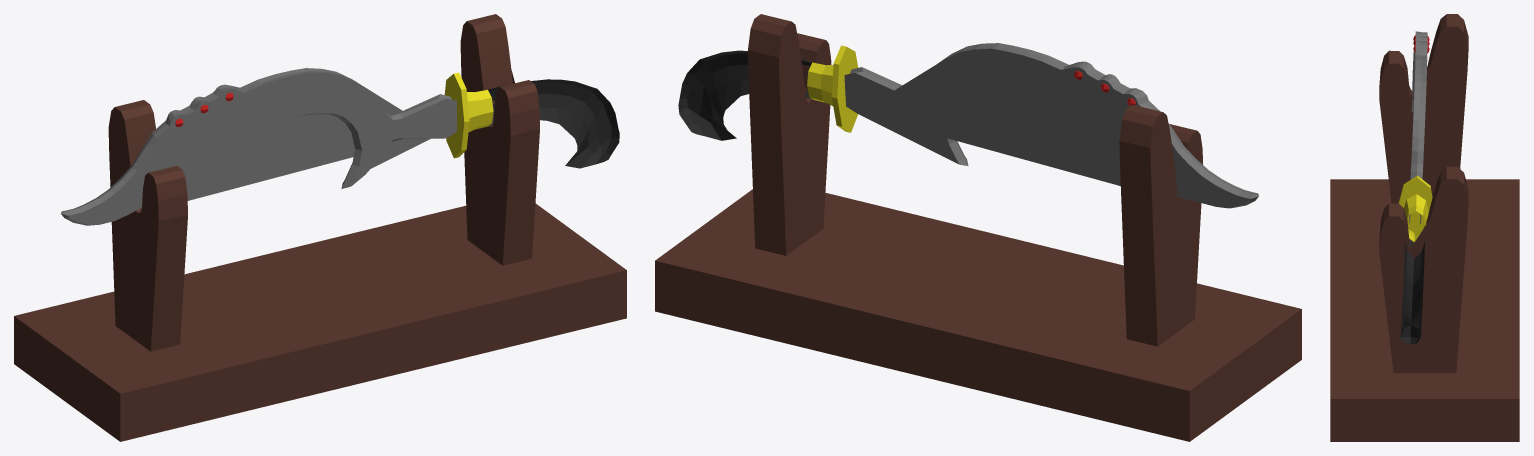
File: kujang+tatakan.fbx
3 renders of one model, left to right at view 1: azimuth 30°, elevation 25°; view 2: azimuth 150°, elevation 25°; view 3: azimuth 270°, elevation 25°, orthographic. The views are drawn at different scales.
Parts seen in each view (by area): view 1: Tatakan; view 2: Tatakan; view 3: Tatakan.
Boxes of the visible parts, x1,y1,x2,y2 form: Tatakan: (14, 14, 626, 441); Tatakan: (655, 14, 1301, 441); Tatakan: (1330, 14, 1519, 441).
Size of the model in its own units: 176 by 84.98 by 58.64.
